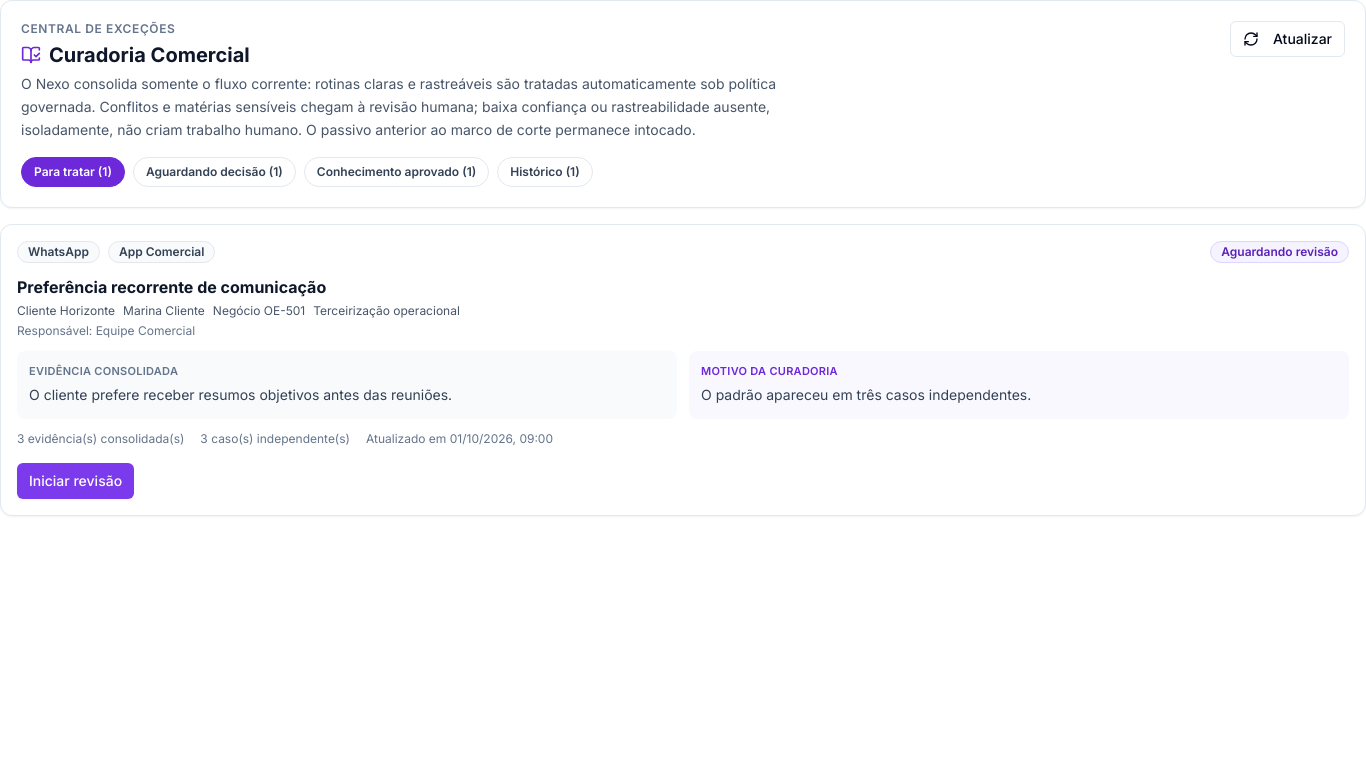
Scenario: Curadoria Comercial Unificada › salva a entrevista guiada como rascunho com controle de revisão
Click the button "Iniciar revisão". click: [76, 480]
box: x1=17 y1=462 x2=134 y2=498
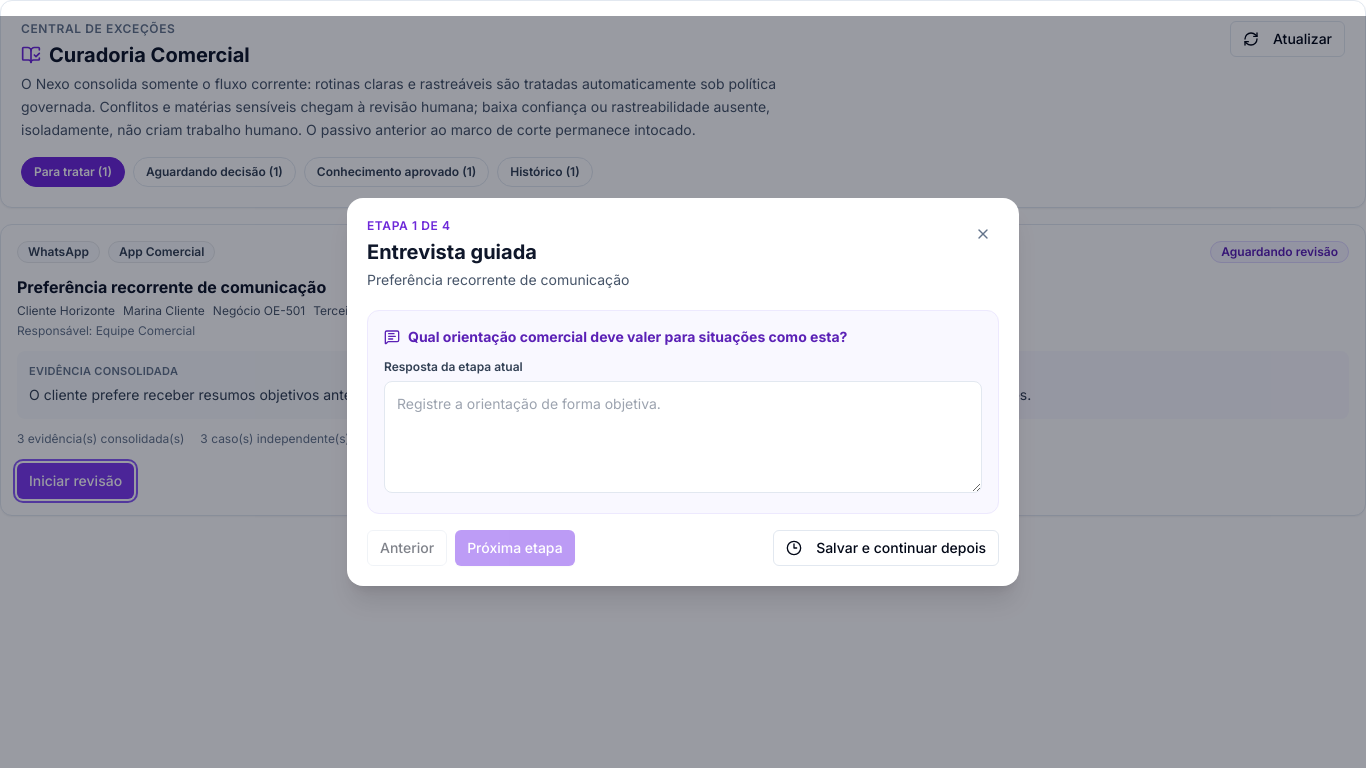
Expected: the heading "Entrevista guiada" is shown, x1=367 y1=240 x2=537 y2=264
Expected: the text "Qual orientação comercial deve valer para situações como esta?" is shown, x1=408 y1=327 x2=847 y2=347
Type "Enviar um resumo objetivo." into the text box labelled "Resposta da etapa atual". click: [683, 437]
box: x1=384 y1=381 x2=982 y2=493
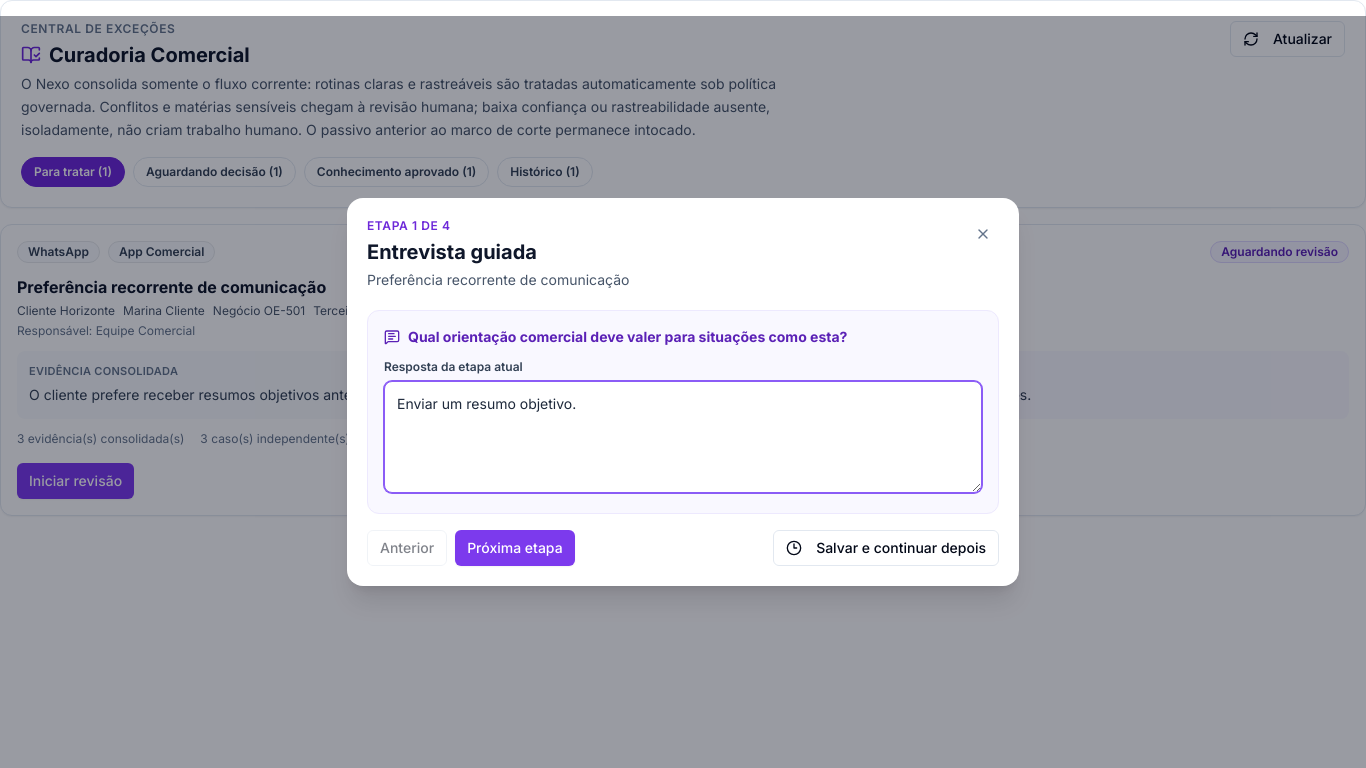
Click the button "Salvar e continuar depois". click: [886, 548]
box: x1=773 y1=530 x2=999 y2=566
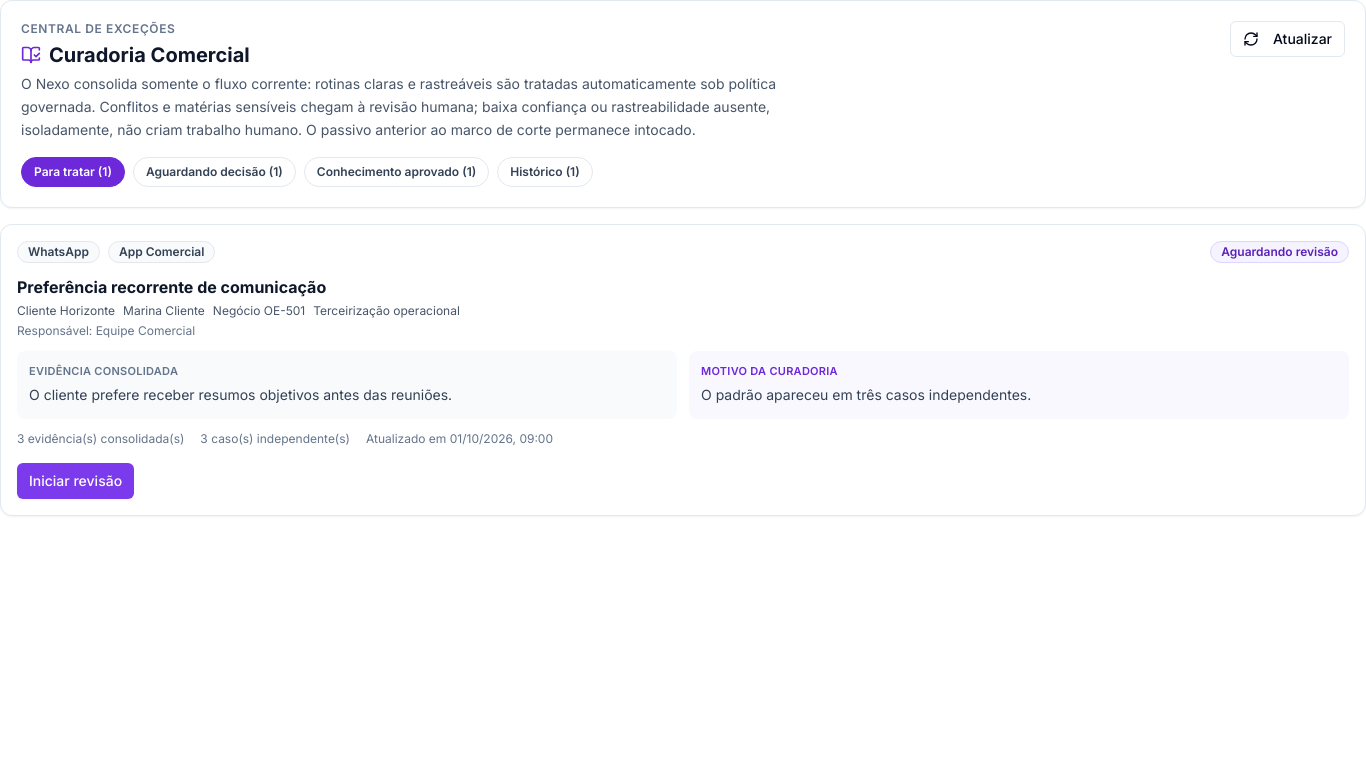
Expected: the heading "Entrevista guiada" is gone
